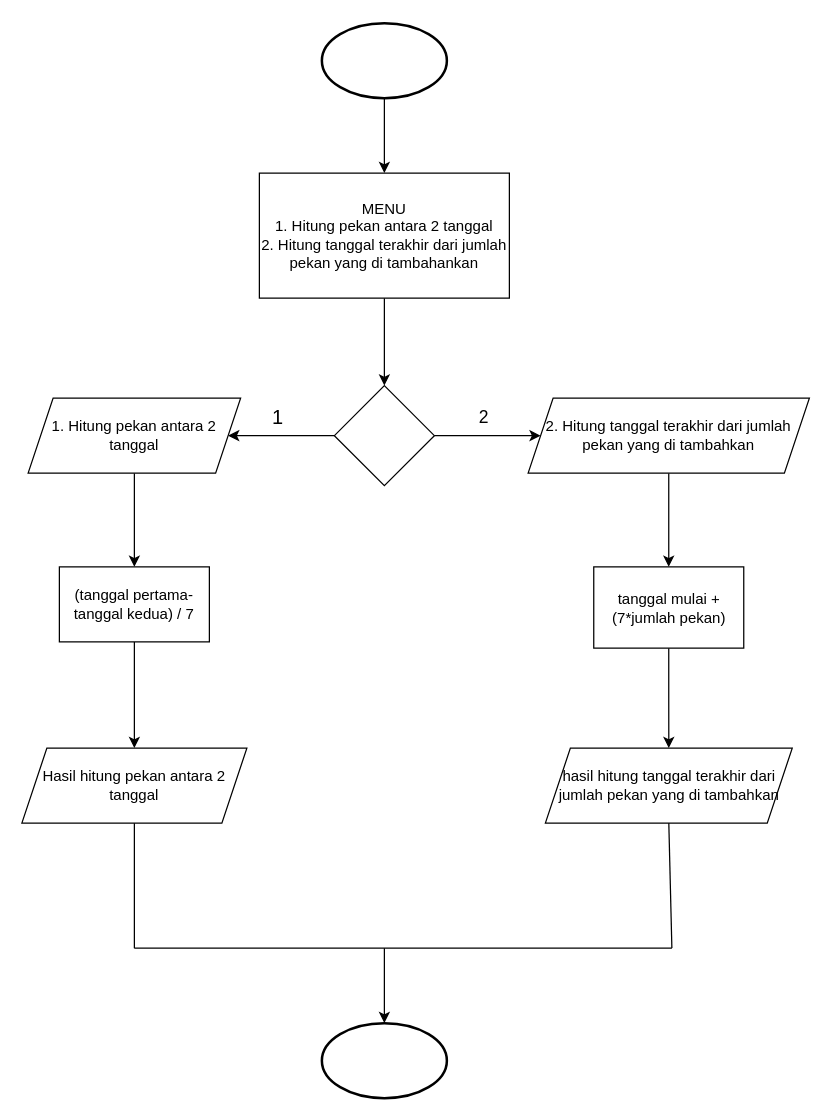
This 831x1120 diagram has some shape labels left out. The shapes that lost their labels are listed below. From the top down, each one's centre as x and y in pixels, then its label:
At point (384, 60): "Start".
At point (383, 435): "Pilih".
At point (384, 1060): "END".
